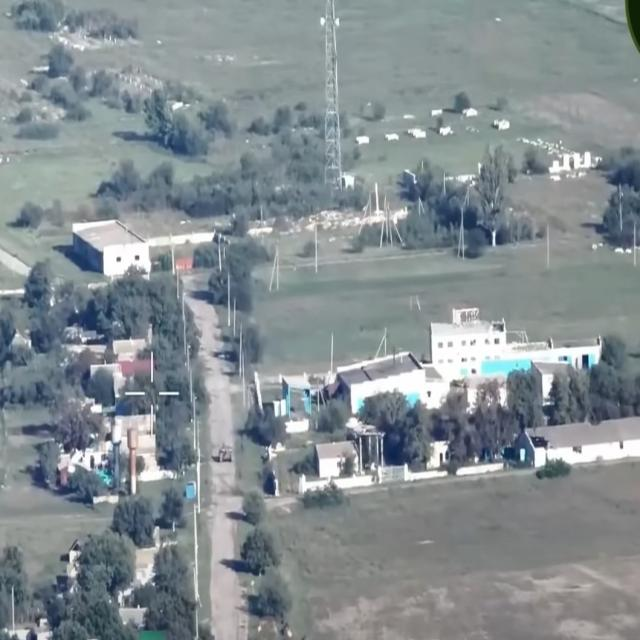MBT: (218, 442, 235, 465)
